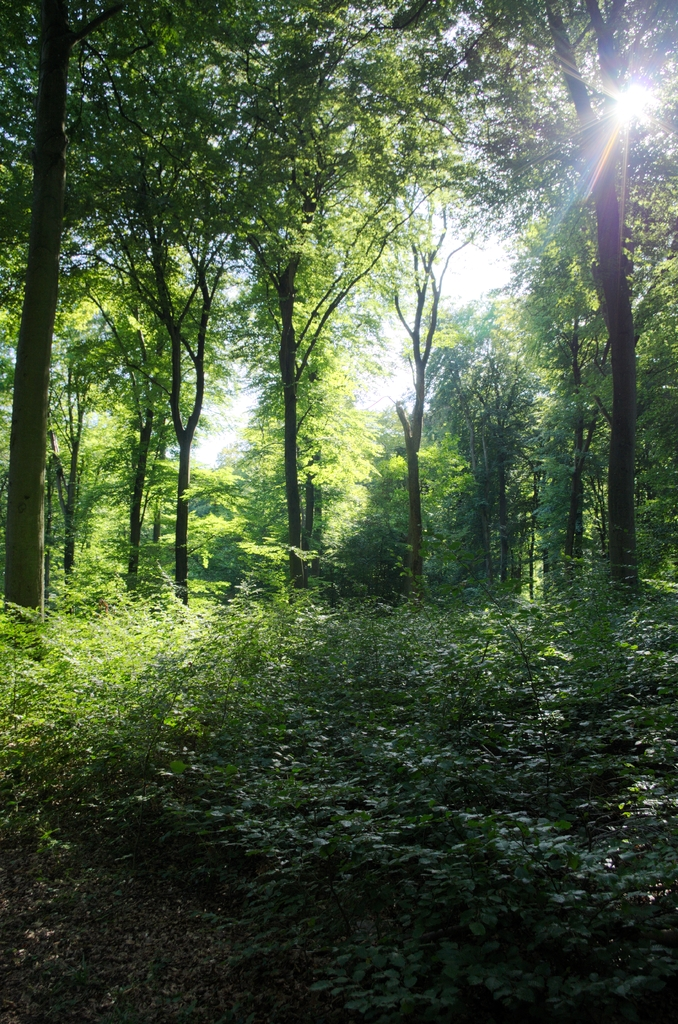Tree: (0, 0, 546, 635), (538, 0, 677, 586)
